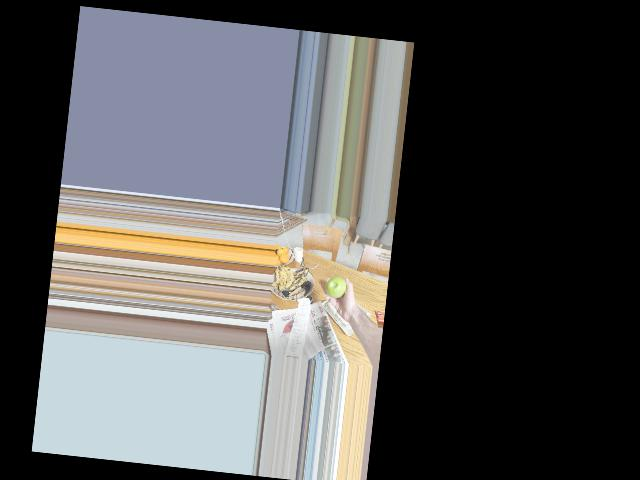apple: (323, 273, 345, 304)
